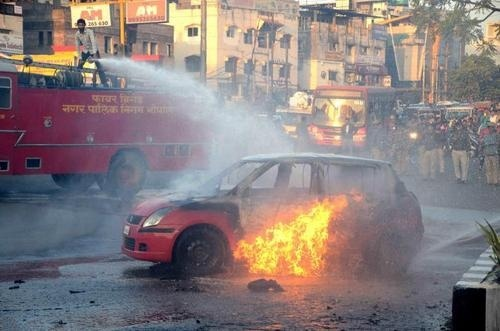fire: (231, 192, 354, 278)
